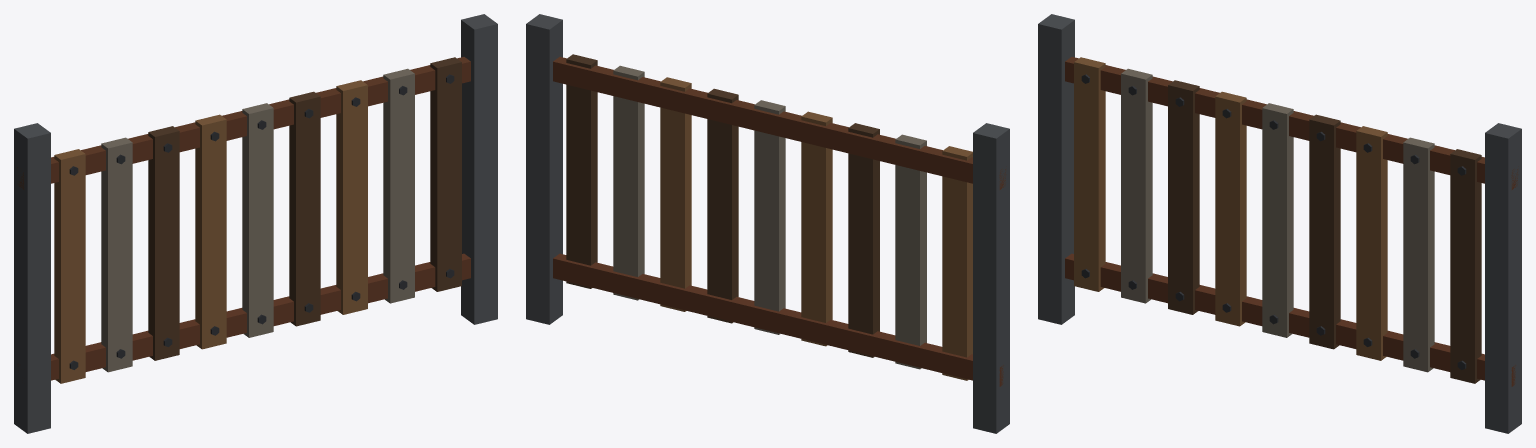
The model's file is piece_fence.fbx.
3 views of the same model, side by side, from view 1: azimuth 30°, elevation 25°; view 2: azimuth 150°, elevation 25°; view 3: azimuth 330°, elevation 25° (orthographic).
Visible parts, largest first — view 1: piece_fence; view 2: piece_fence; view 3: piece_fence.
Part boxes in pixels (x1,y1,x2,y2): piece_fence: [14, 14, 497, 433]; piece_fence: [526, 14, 1009, 433]; piece_fence: [1038, 14, 1521, 433].
Bounding box in the file's own units: 2 × 1.2 × 0.1.
